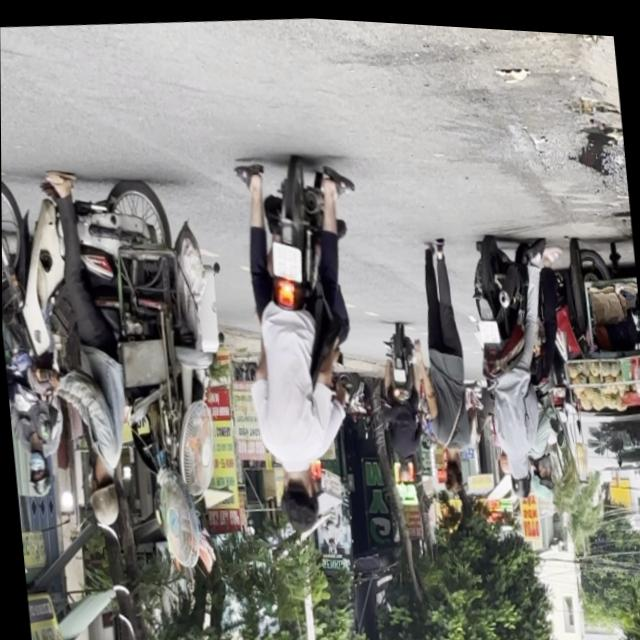helmet: (83, 459, 122, 530), (526, 450, 555, 497), (24, 448, 50, 497), (506, 453, 529, 496)
licenseplate: (1, 149, 238, 552), (227, 142, 376, 535), (464, 225, 563, 504), (1, 167, 70, 503)
motorcyclist: (276, 461, 322, 532)
nohelmet: (271, 239, 302, 280), (477, 314, 499, 339)
